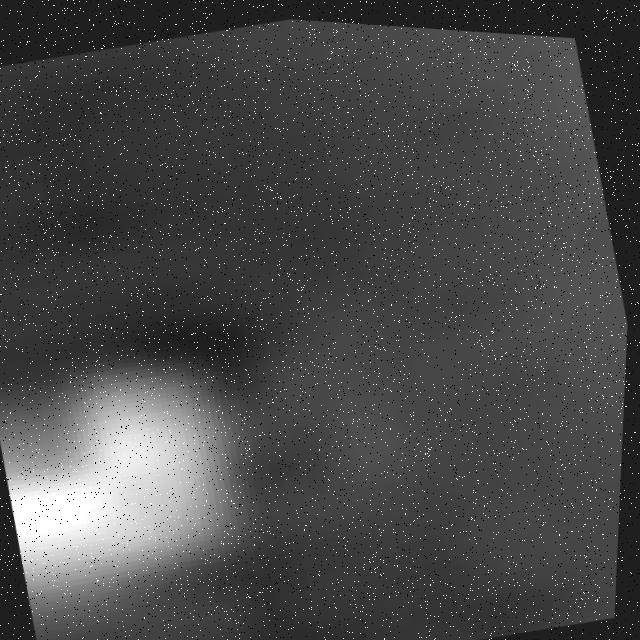person: (1, 307, 383, 626)
